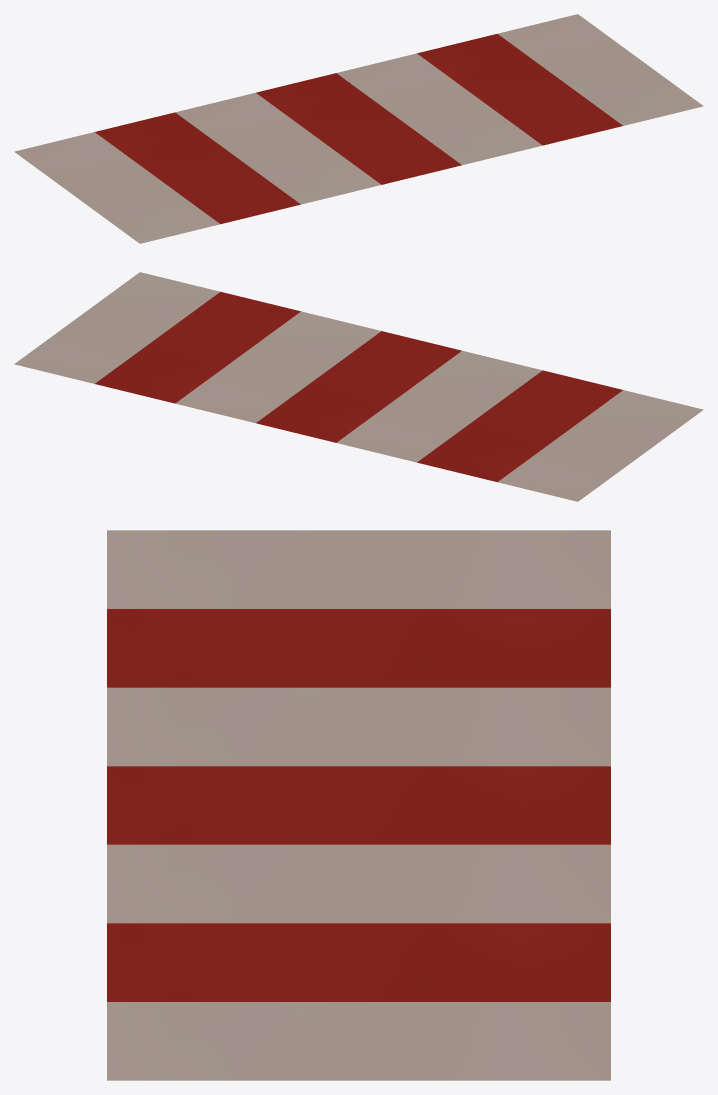
Rendered from ETC0610003.fbx.
The picture shows the model from 3 angles, top to bottom: view 1: azimuth 30°, elevation 25°; view 2: azimuth 150°, elevation 25°; view 3: azimuth 270°, elevation 25°; orthographic projection. The views are drawn at different scales.
Visible parts, largest first — view 1: smETC0610003; view 2: smETC0610003; view 3: smETC0610003.
Part boxes in pixels (<box>): smETC0610003: <box>14,14,703,243</box>; smETC0610003: <box>14,272,703,501</box>; smETC0610003: <box>107,530,610,1080</box>.
Size of the model in its own units: 398 by 0 by 154.
Materials: 1 (1 with a texture image).
